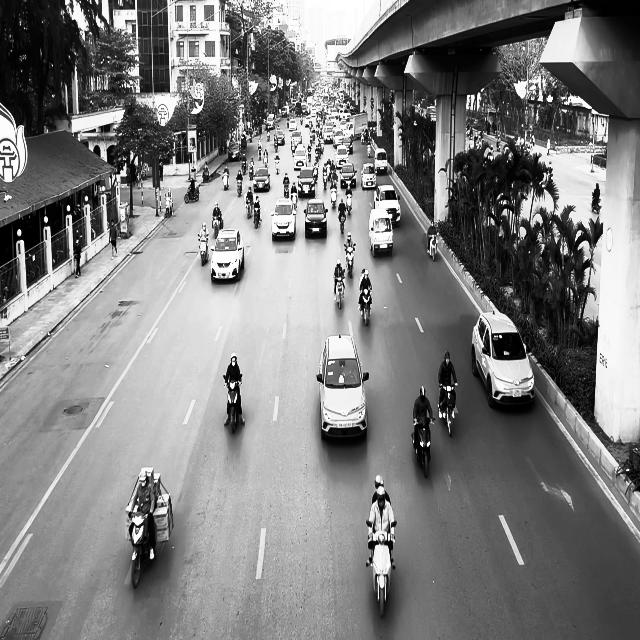car: (471, 311, 535, 408), (316, 334, 369, 441), (210, 228, 244, 282), (368, 208, 394, 257), (374, 184, 401, 227), (270, 197, 296, 241), (303, 199, 328, 238), (298, 167, 316, 196), (253, 167, 270, 192), (361, 163, 376, 189), (228, 142, 241, 161)
motorbike: (366, 518, 396, 618), (411, 417, 435, 478), (223, 376, 242, 434), (438, 383, 457, 437), (359, 287, 372, 326), (344, 243, 355, 277), (334, 273, 344, 309), (184, 182, 200, 203), (198, 233, 208, 266), (427, 234, 438, 261), (591, 191, 601, 213)
